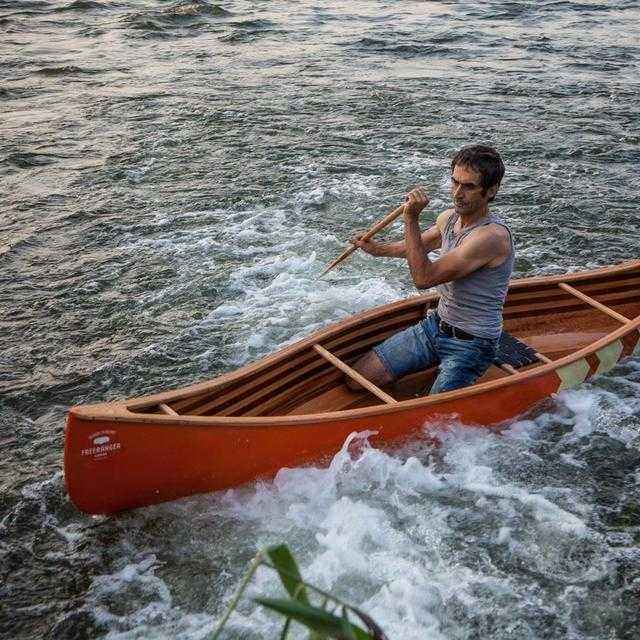kayak: (61, 281, 638, 519)
